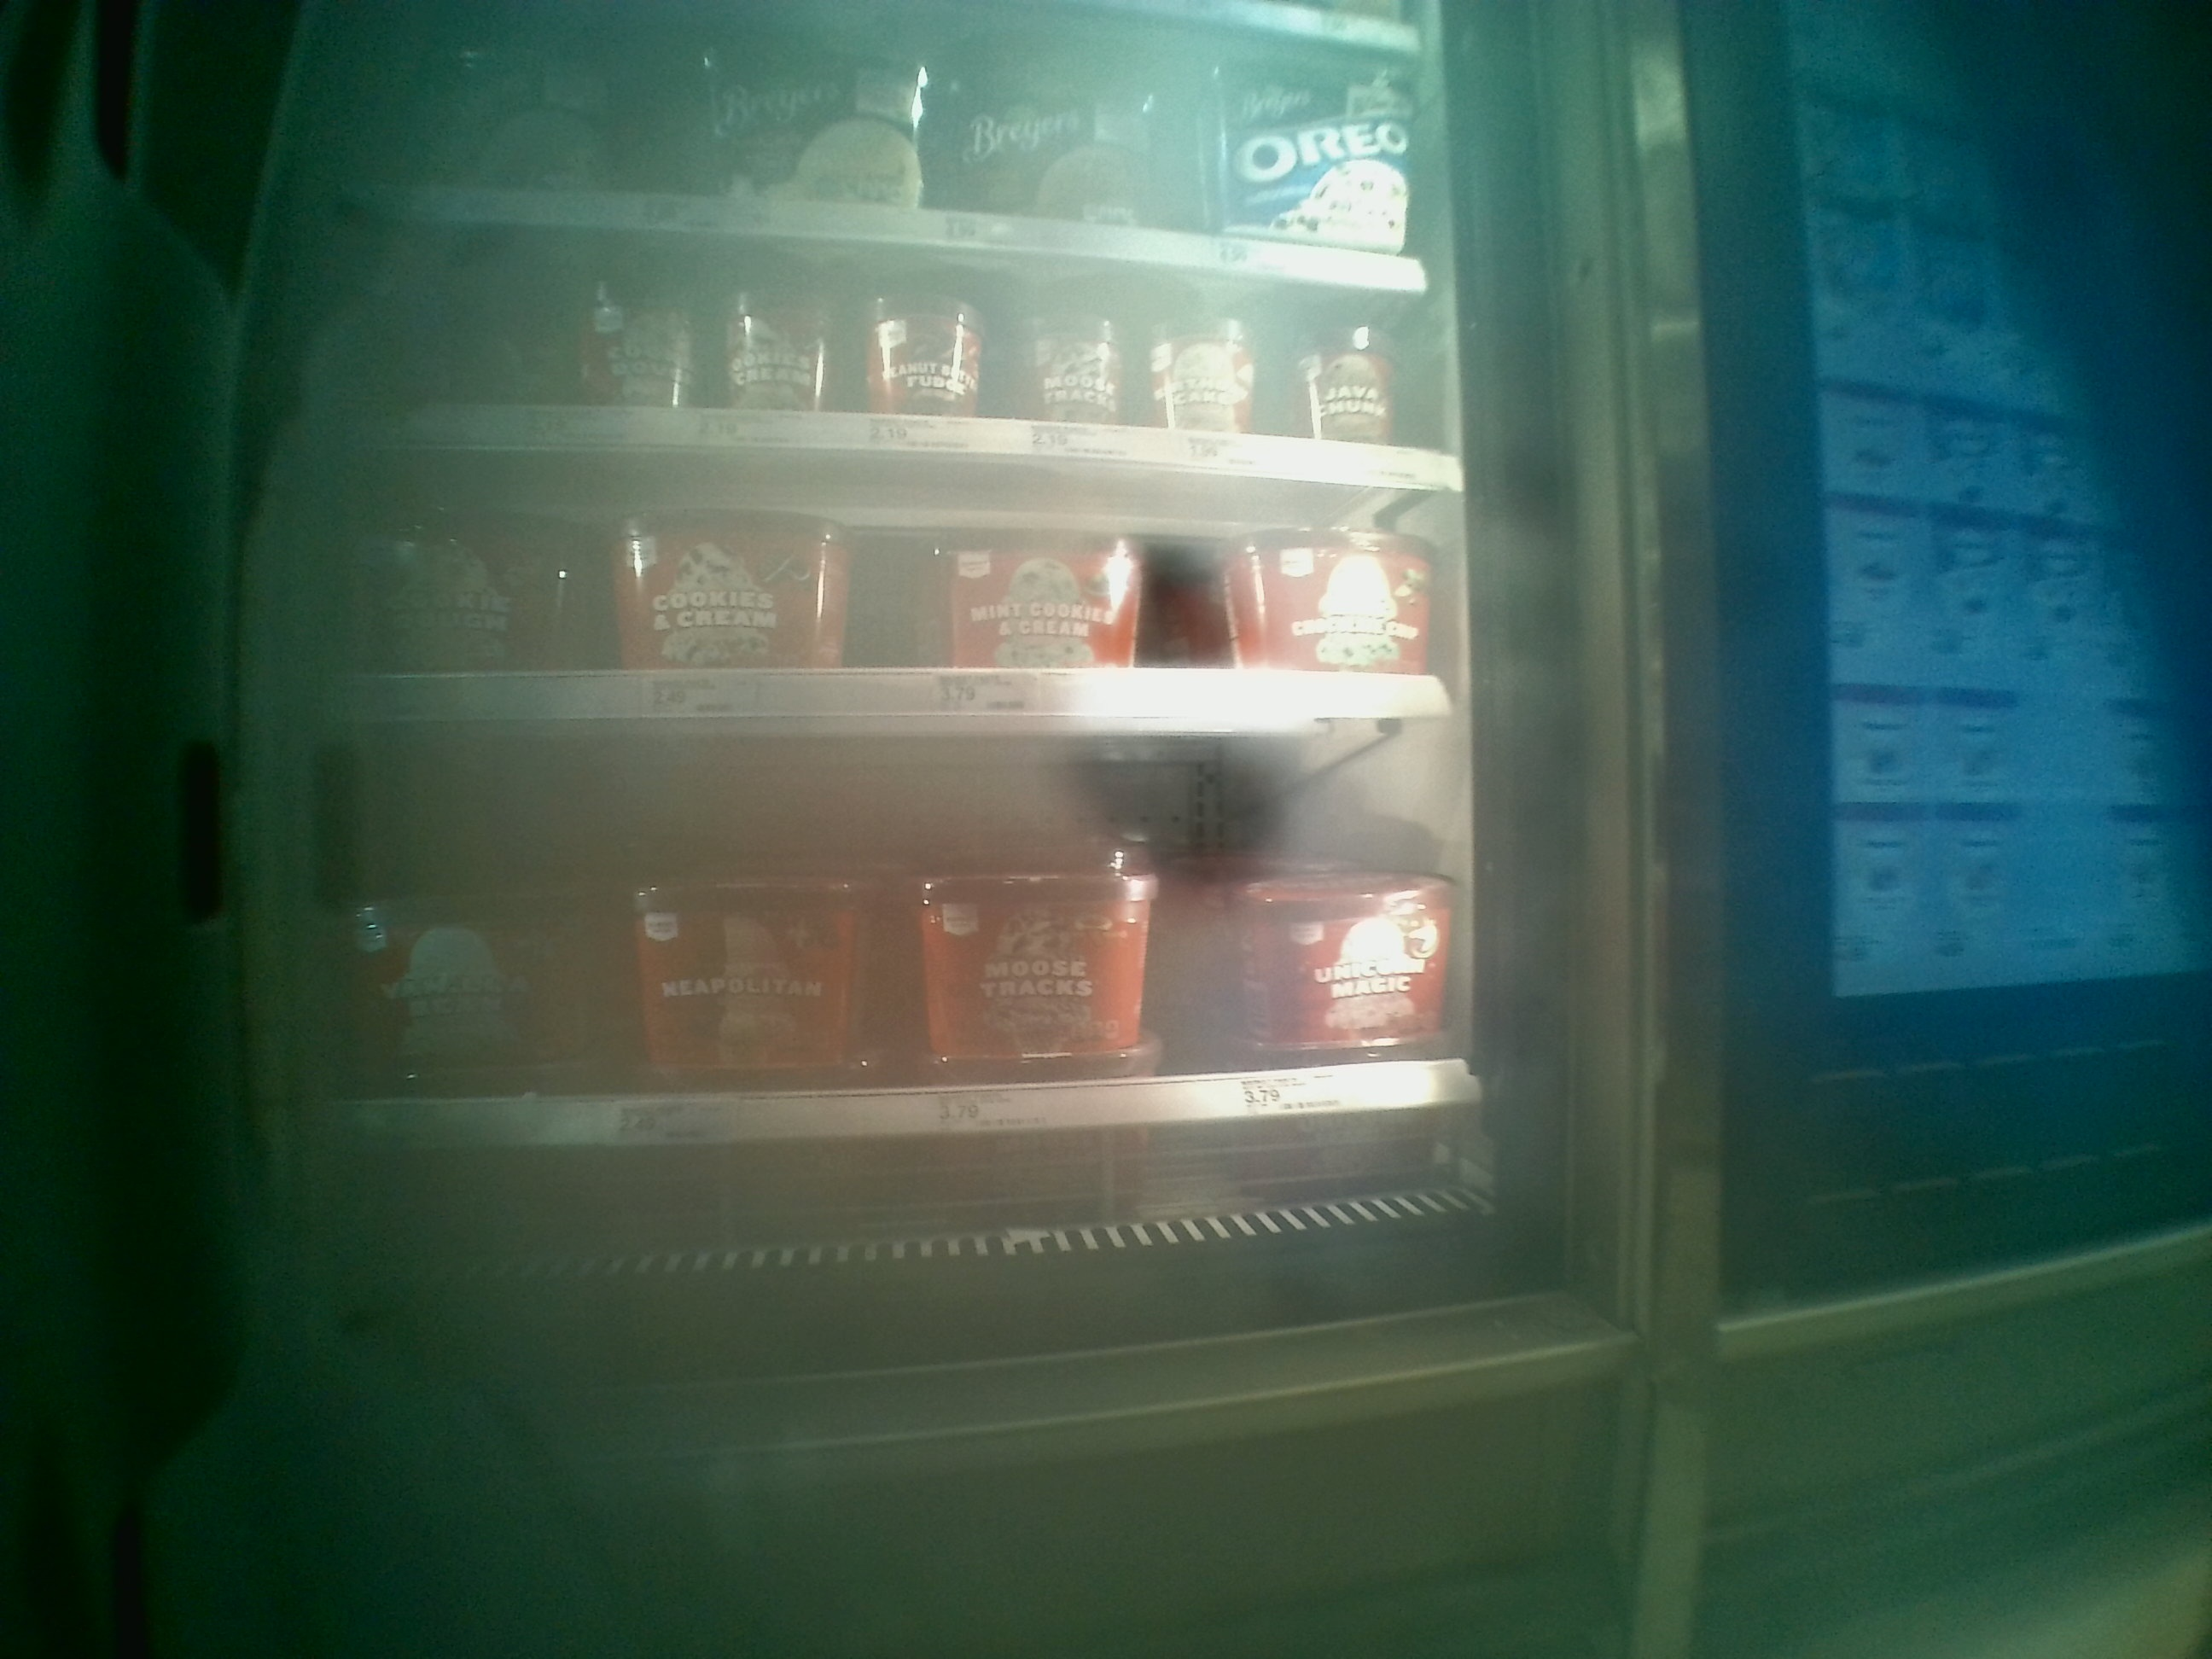shelf: (331, 718, 1505, 1253), (355, 209, 1465, 498), (334, 455, 1470, 723)
